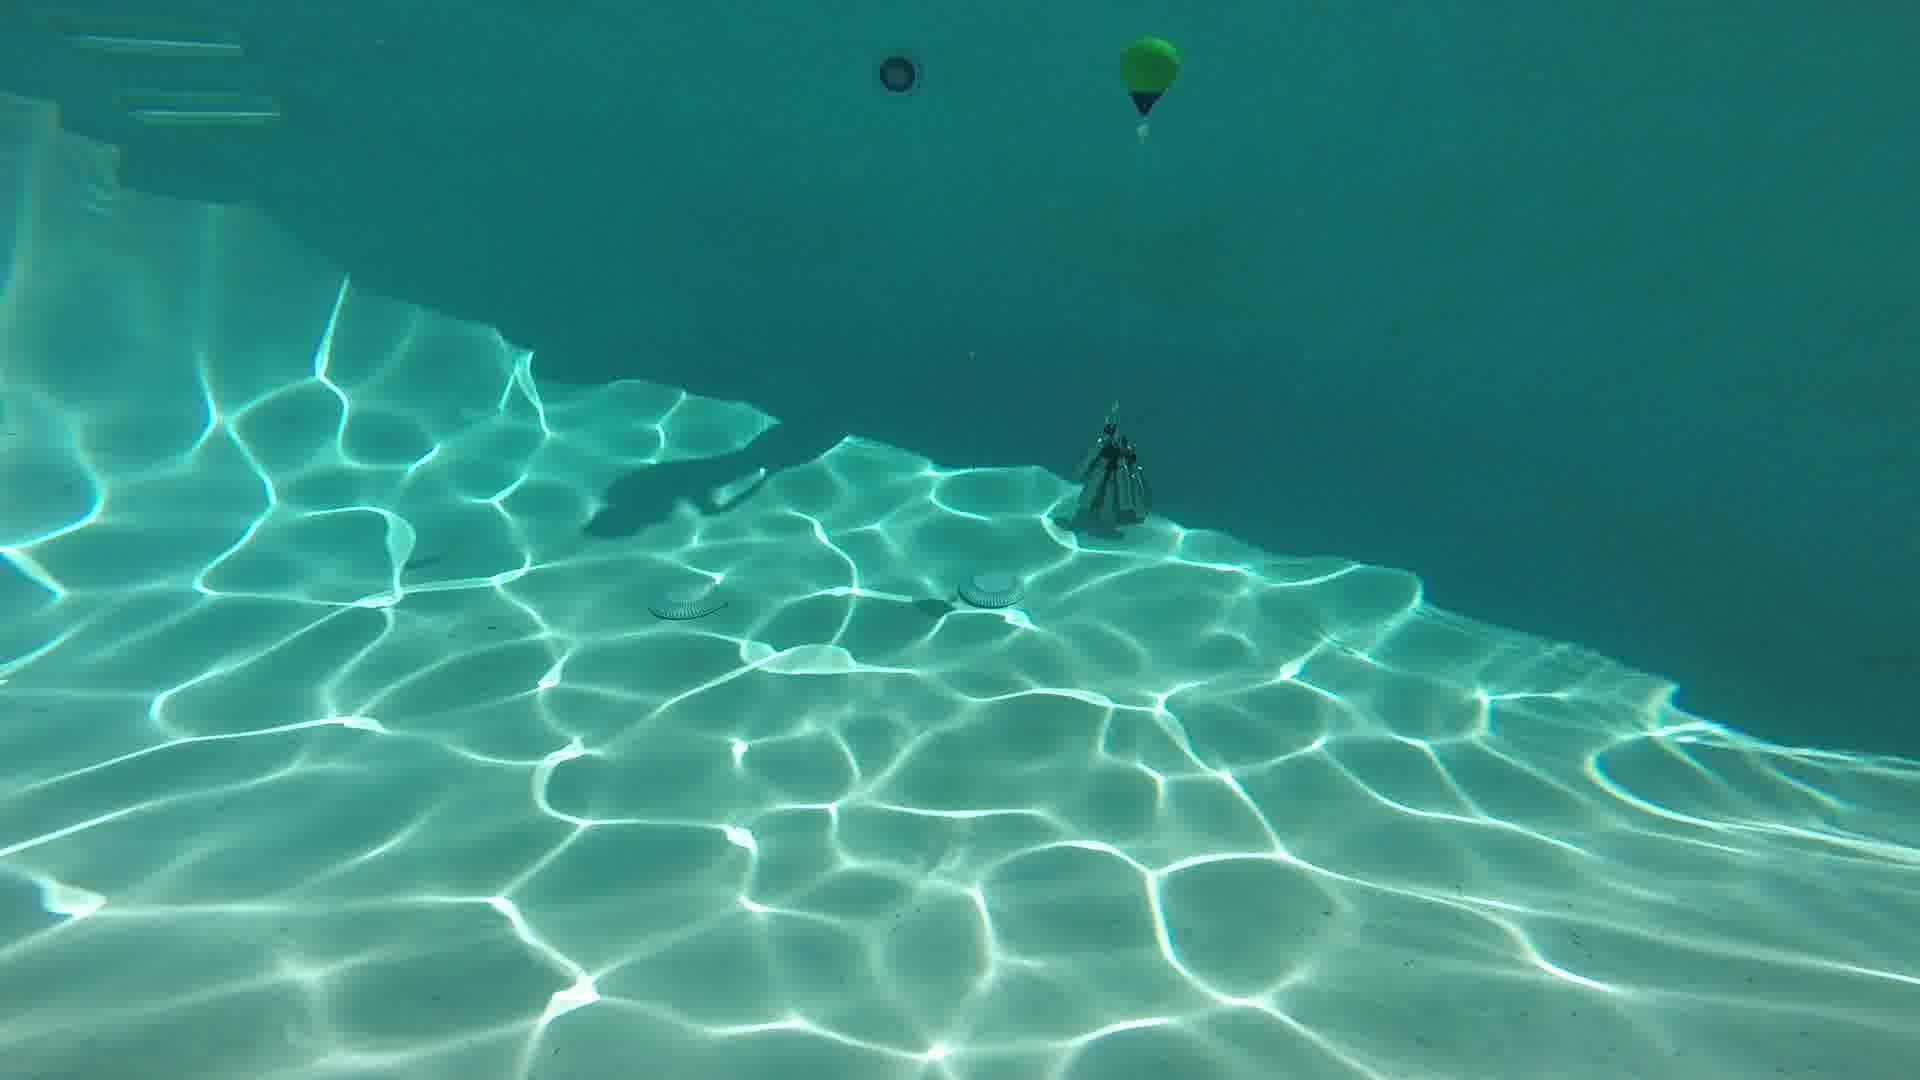yellow_buoy: (1120, 36, 1179, 120)
